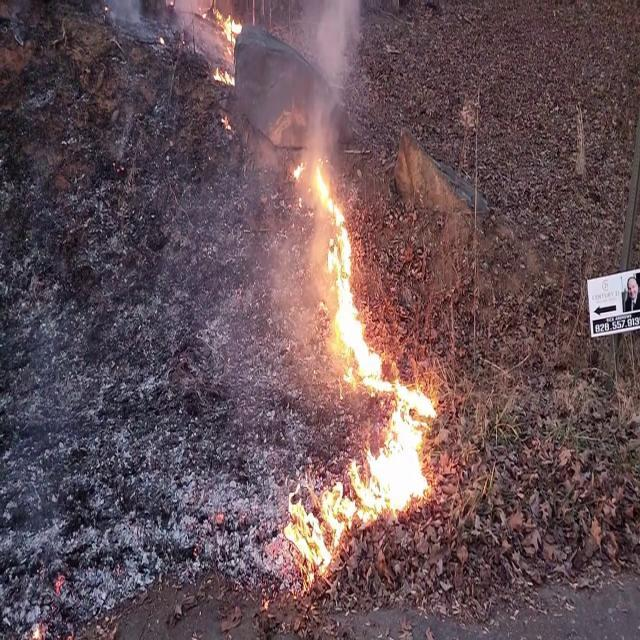Fire: (284, 376, 440, 572), (302, 146, 396, 406), (206, 2, 248, 82)
Smoke: (280, 0, 368, 150)
